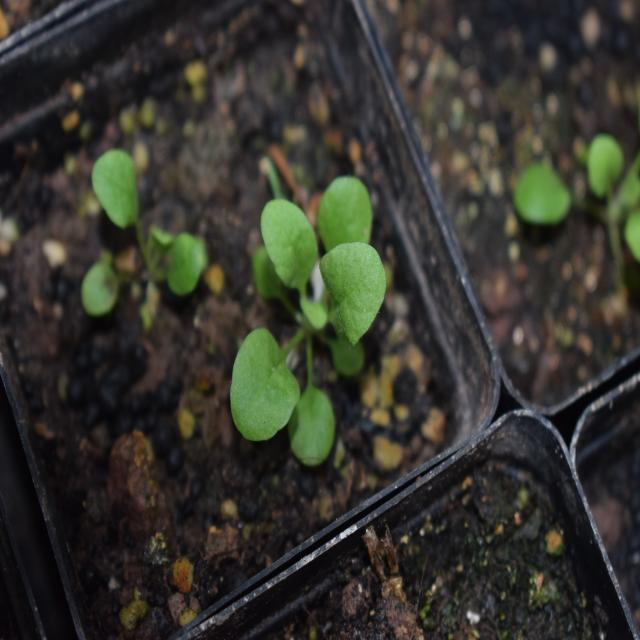Shepherd_Purse: (232, 152, 400, 466)
